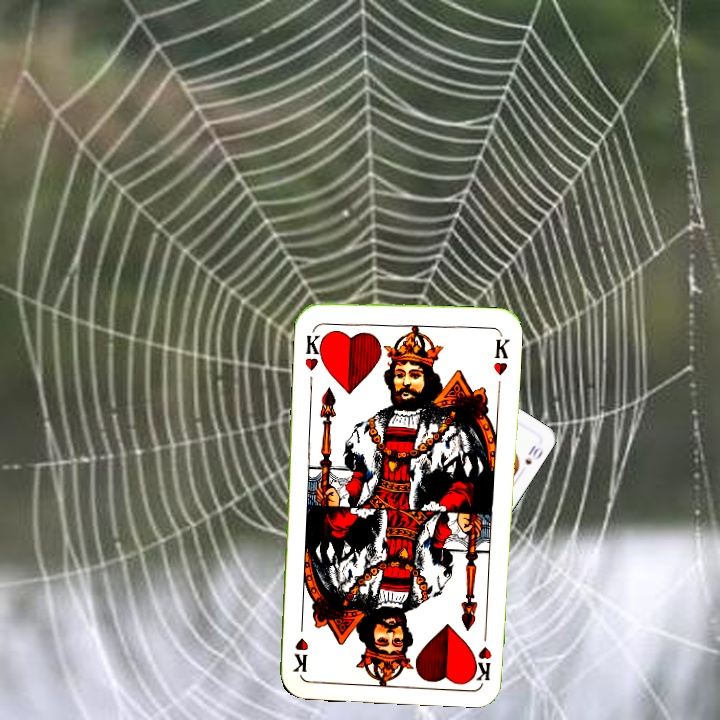HK: (472, 622, 494, 682), (301, 330, 328, 374)
